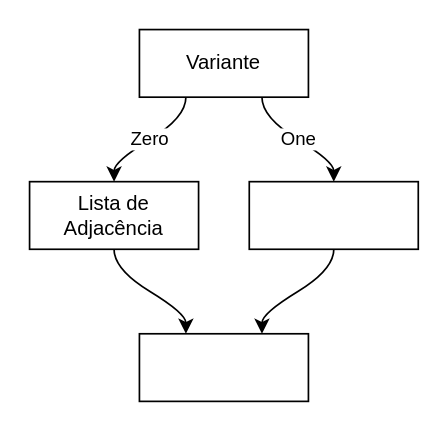
Image size: 448x431. Some labels were removed from this diagram. Each missing label, with the centre of its shape:
"End" belongs at [223,366].
"Vetor de Arestas" belongs at [333,214].
